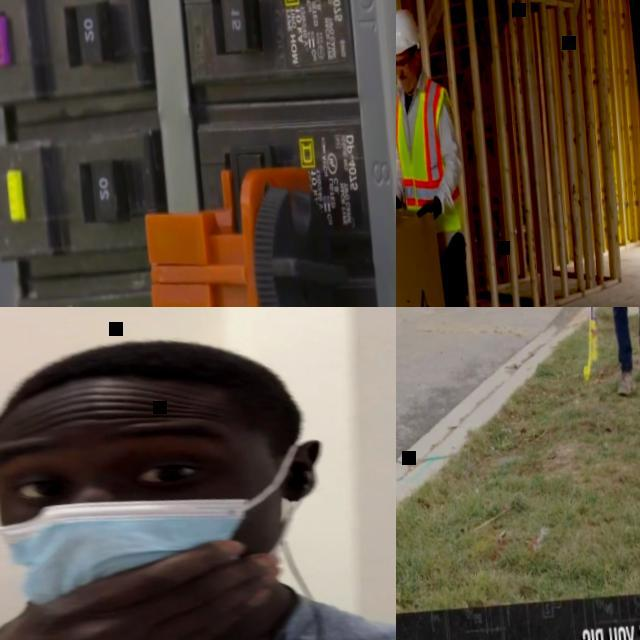helmet: (396, 5, 422, 56)
vest: (396, 71, 465, 236)
